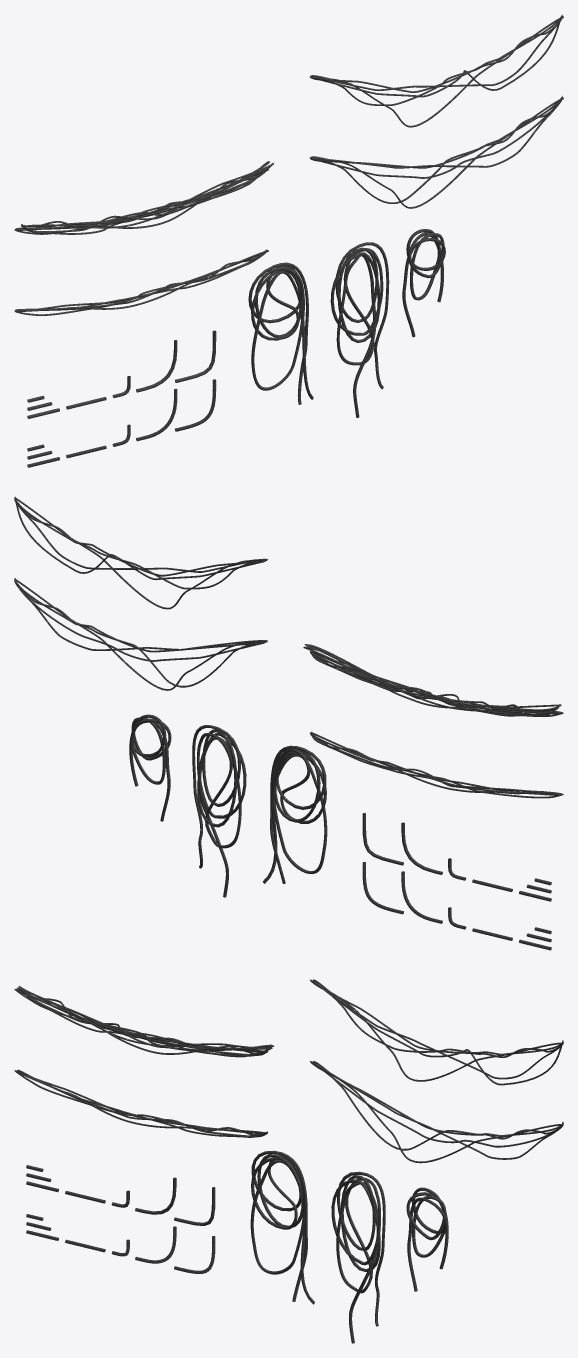
File: electrical-wiring.fbx
3 views of the same model, one above another, from view 1: azimuth 30°, elevation 25°; view 2: azimuth 150°, elevation 25°; view 3: azimuth 330°, elevation 25° (orthographic).
Visible parts, largest first — view 1: Wire.004_PlasticCable_0, Wire.003_PlasticCable_0, Wire.001_PlasticCable_0, Wire_PlasticCable_0, Wire.006_PlasticCable_0, Wire.002_PlasticCable_0, Wire.005_PlasticCable_0; view 2: Wire.004_PlasticCable_0, Wire.003_PlasticCable_0, Wire.001_PlasticCable_0, Wire_PlasticCable_0, Wire.006_PlasticCable_0, Wire.002_PlasticCable_0, Wire.005_PlasticCable_0; view 3: Wire.004_PlasticCable_0, Wire.003_PlasticCable_0, Wire.001_PlasticCable_0, Wire_PlasticCable_0, Wire.006_PlasticCable_0, Wire.002_PlasticCable_0, Wire.005_PlasticCable_0.
Part boxes in pixels (x1,y1,x2,y2): Wire.004_PlasticCable_0: [330, 242, 389, 417]; Wire.003_PlasticCable_0: [248, 262, 313, 404]; Wire.001_PlasticCable_0: [14, 161, 273, 234]; Wire_PlasticCable_0: [309, 14, 563, 127]; Wire.006_PlasticCable_0: [309, 96, 563, 208]; Wire.002_PlasticCable_0: [14, 249, 268, 315]; Wire.005_PlasticCable_0: [402, 229, 445, 337]; Wire.004_PlasticCable_0: [192, 725, 246, 897]; Wire.003_PlasticCable_0: [263, 745, 327, 883]; Wire.001_PlasticCable_0: [303, 644, 563, 716]; Wire_PlasticCable_0: [14, 496, 267, 609]; Wire.006_PlasticCable_0: [14, 578, 267, 690]; Wire.002_PlasticCable_0: [310, 731, 563, 798]; Wire.005_PlasticCable_0: [129, 714, 171, 821]; Wire.004_PlasticCable_0: [331, 1171, 385, 1343]; Wire.003_PlasticCable_0: [250, 1150, 314, 1304]; Wire.001_PlasticCable_0: [14, 986, 274, 1057]; Wire_PlasticCable_0: [310, 979, 563, 1085]; Wire.006_PlasticCable_0: [309, 1061, 563, 1163]; Wire.002_PlasticCable_0: [14, 1069, 268, 1137]; Wire.005_PlasticCable_0: [406, 1187, 448, 1291].
Bounding box in the file's own units: 7070 × 4320 × 210.
Materials: 1 (1 with a texture image).
